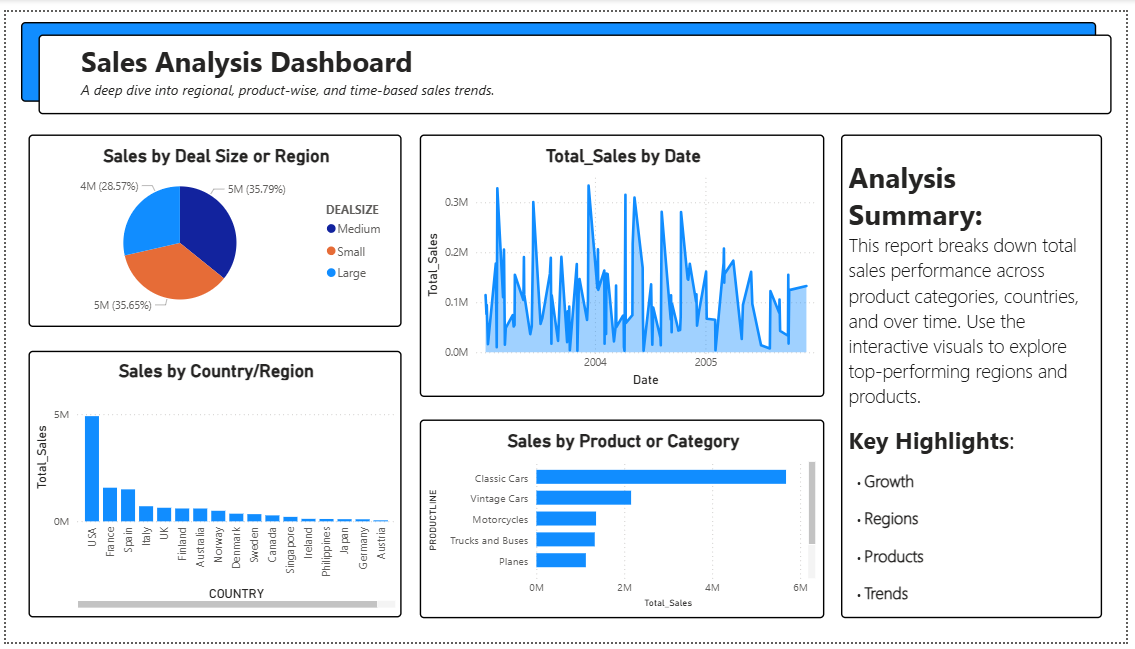

Layout of this report page (visuals, bound fields, positions):
{"tool":"powerbi","page":{"name":"Page 2","canvas":[1280,720],"ordinal":1},"visuals":[{"type":"clusteredBarChart","title":"Sales by Product or Category","fields":{"Category":["Product.PRODUCTLINE"],"Y":["Final_sales.Total_Sales"]},"box":[472.5,465,462.5,227.5],"z":0},{"type":"clusteredColumnChart","title":"Sales by Country/Region","fields":{"Y":["Final_sales.Total_Sales"],"Category":["Customers.COUNTRY"]},"box":[25,387.5,426.2,305],"z":1000},{"type":"areaChart","fields":{"Category":["Date Table.Date"],"Y":["Final_sales.Total_Sales"]},"box":[472.5,140,462.5,300],"z":2000},{"type":"pieChart","title":"Sales by Deal Size or Region","fields":{"Category":["Customers.DEALSIZE"],"Y":["Final_sales.Total_Sales"]},"box":[25,140,426.2,220],"z":3000},{"type":"textbox","box":[953.8,140,298.8,552.5],"z":4000},{"type":"textbox","box":[17.5,11.2,1228.8,91.2],"z":5000},{"type":"textbox","box":[37.5,25,1226.2,91.2],"z":6000}]}

Visuals, with their boxes in screenshot pixels (x1, y1, x2, y2), scaled from the page's 1280x720 canvas onto the 1135x649 screenshot:
"Sales by Product or Category" clusteredBarChart: 419,419,829,624
"Sales by Country/Region" clusteredColumnChart: 22,349,400,624
areaChart - Date Table.Date x Final_sales.Total_Sales: 419,126,829,397
"Sales by Deal Size or Region" pieChart: 22,126,400,324
textbox: 846,126,1111,624
textbox: 16,10,1105,92
textbox: 33,23,1121,105
